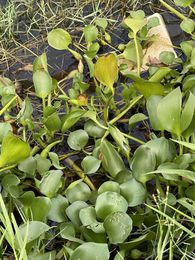water_hyacinth: (1, 10, 194, 259)
